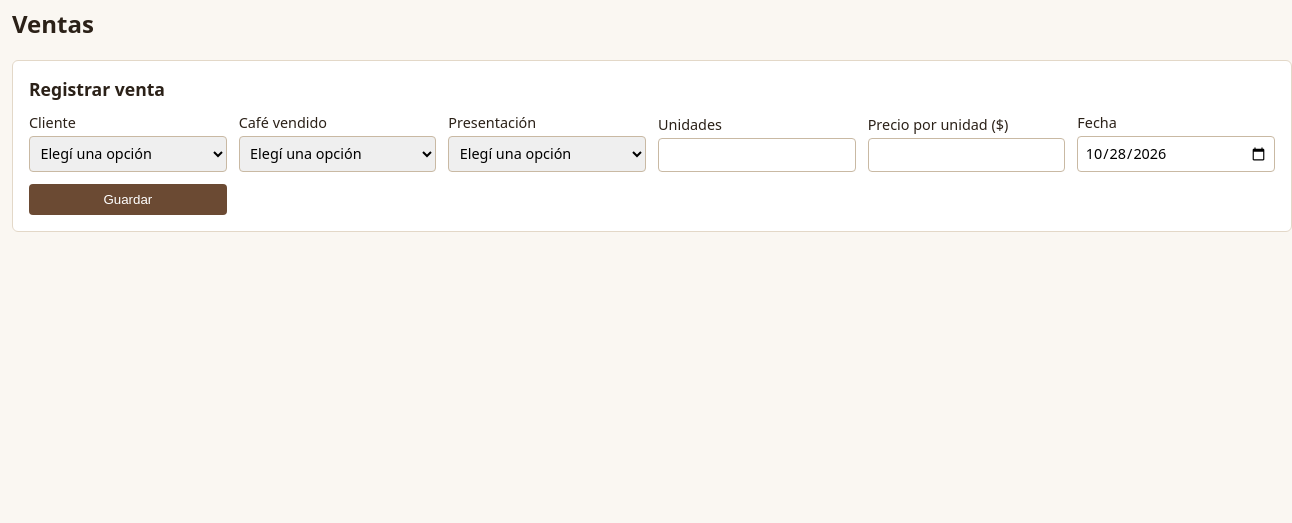
Test case: Página de ventas › muestra los valores de la API formateados, sin recalcular
Select "Bar Central" in the dropdown labelled "Cliente": (128, 154) left=29, top=136, right=227, bottom=172
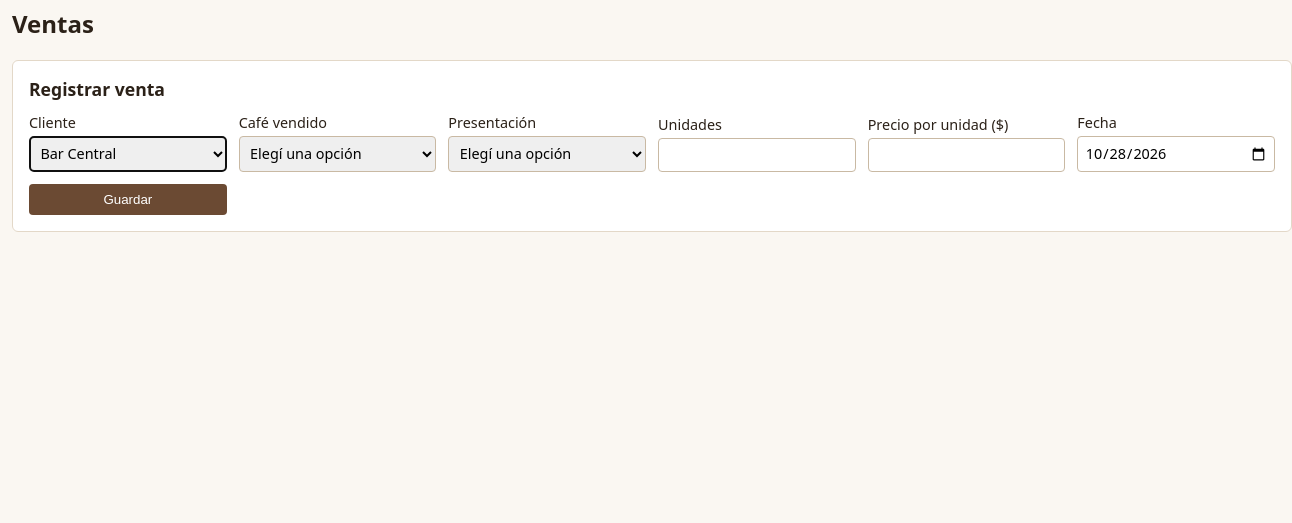
Select "Colombia" in the dropdown labelled "Café vendido": (338, 154) left=239, top=136, right=436, bottom=172
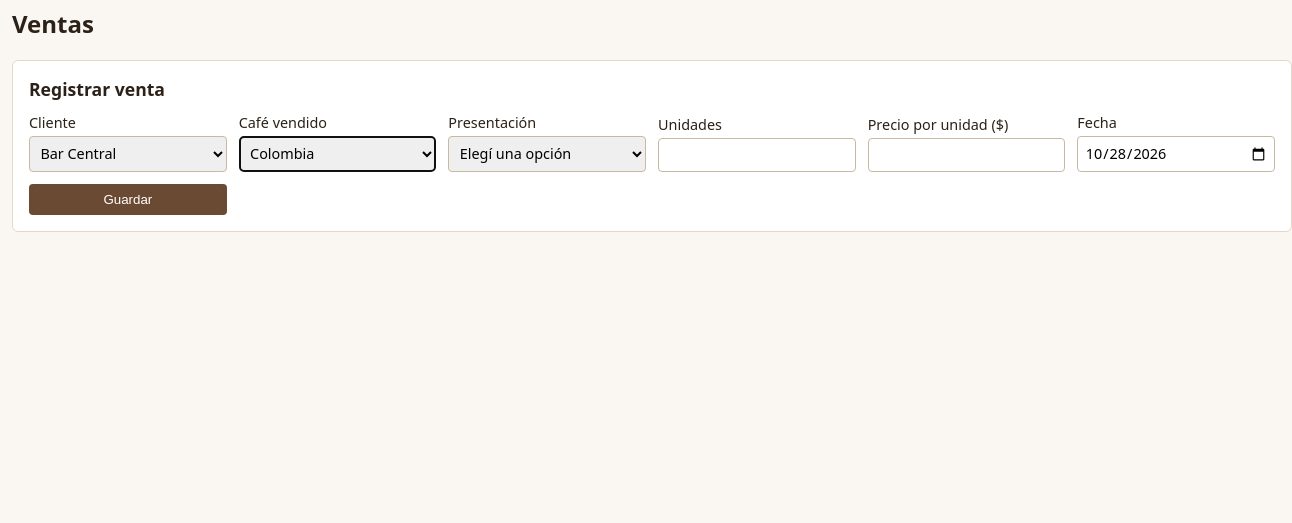
Select "Bolsa 250 g" in the dropdown labelled "Presentación": (547, 154) left=448, top=136, right=646, bottom=172
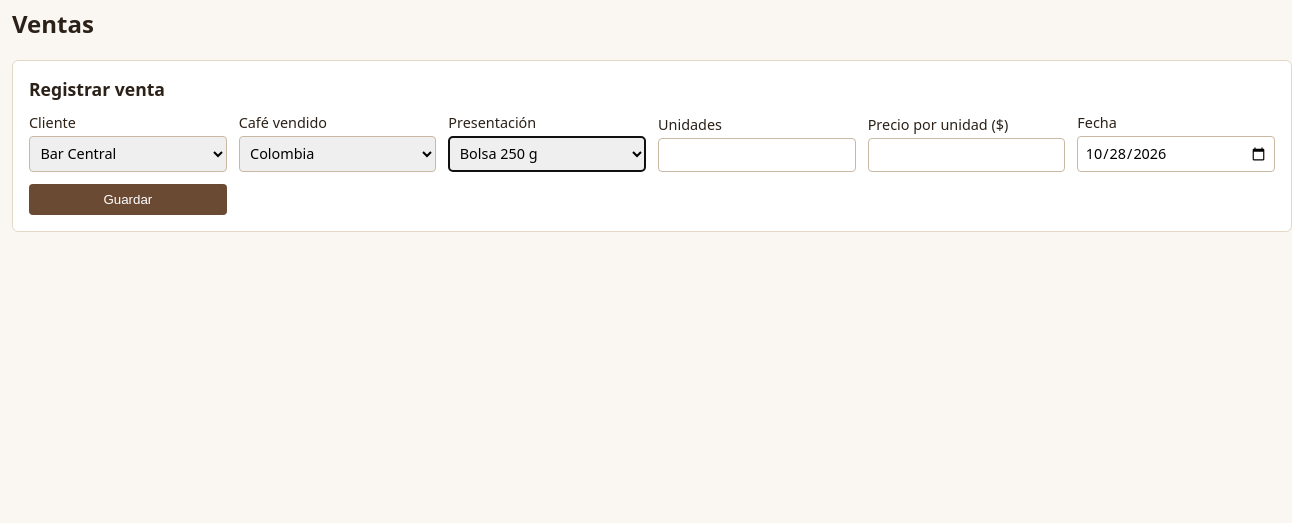
In the field labelled "Unidades": (757, 155) left=658, top=138, right=856, bottom=172, type "4"
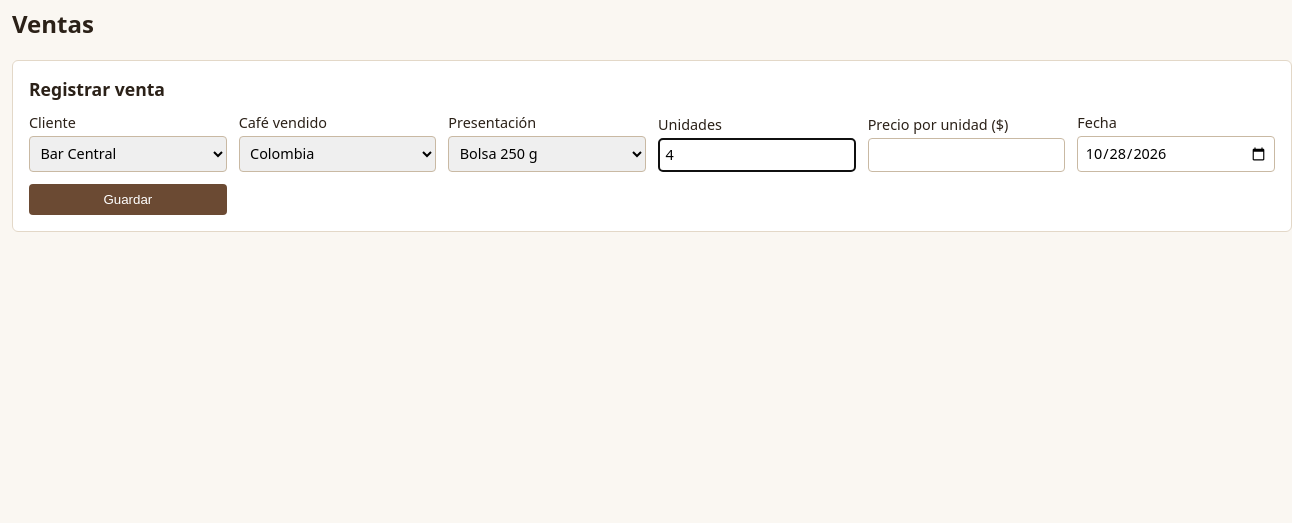
In the field labelled "Precio por unidad ($)": (967, 155) left=868, top=138, right=1065, bottom=172, type "15"
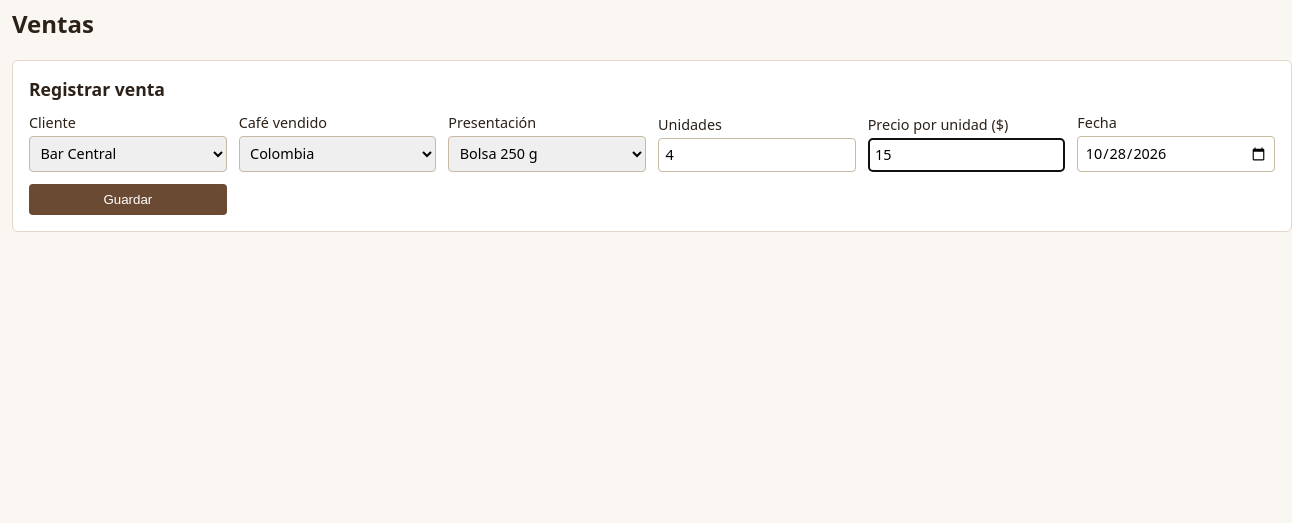
Click the button "Guardar": (128, 199) left=29, top=184, right=227, bottom=215
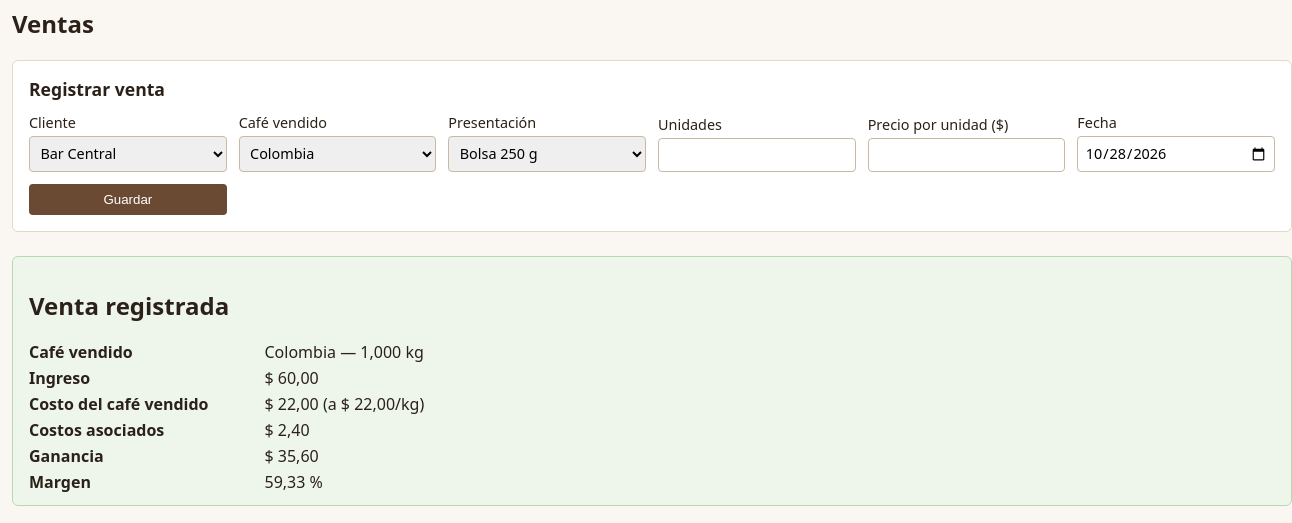
Expected: the element named "Resultado de la venta" shows "60,00", left=264, top=367, right=319, bottom=389
Expected: the element named "Resultado de la venta" shows "2,40", left=264, top=419, right=310, bottom=441
Expected: the element named "Resultado de la venta" shows "35,60", left=264, top=445, right=319, bottom=467
